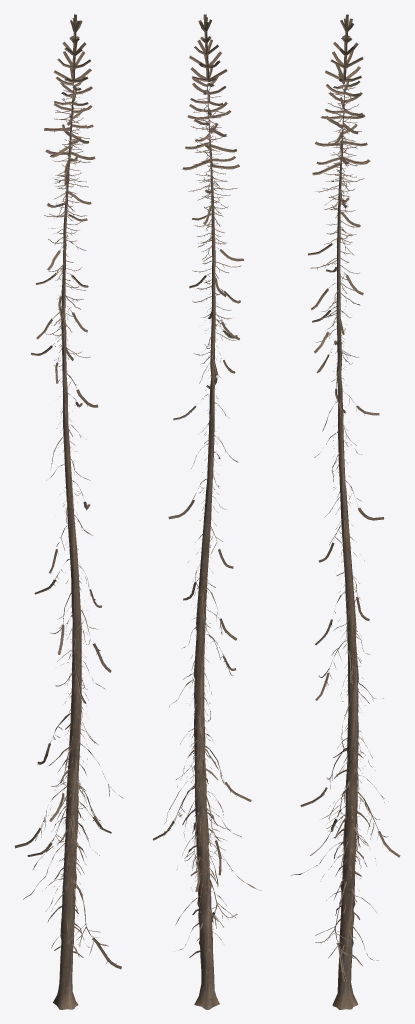
The model's file is trees-1-test.glb.
3 renders of one model, left to right at view 1: azimuth 30°, elevation 25°; view 2: azimuth 150°, elevation 25°; view 3: azimuth 330°, elevation 25°, orthographic.
Visible parts, largest first — view 1: Picea_mariana_HD_Picea mariana bark 1_0; view 2: Picea_mariana_HD_Picea mariana bark 1_0; view 3: Picea_mariana_HD_Picea mariana bark 1_0.
Part boxes in pixels (left/top/right/bottom): Picea_mariana_HD_Picea mariana bark 1_0: left=14, top=14, right=123, bottom=1009; Picea_mariana_HD_Picea mariana bark 1_0: left=153, top=14, right=261, bottom=1009; Picea_mariana_HD_Picea mariana bark 1_0: left=291, top=14, right=400, bottom=1009.
Size of the model in its own units: 1.34 by 12.78 by 1.24.
1 material, 1 textured.
